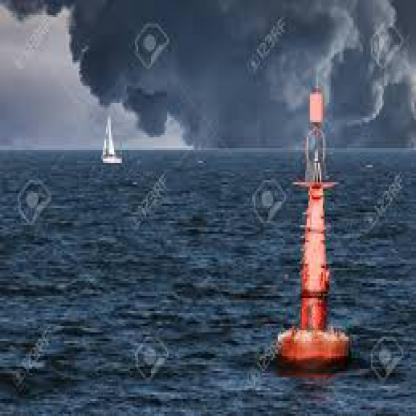buoy: (263, 60, 363, 380)
